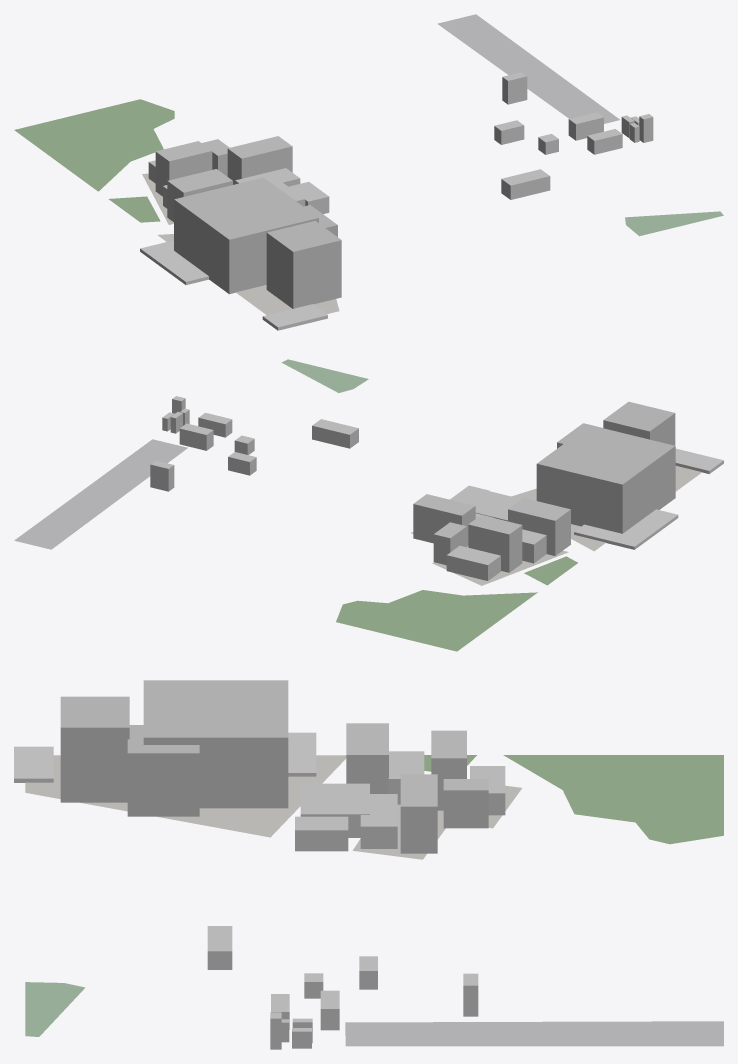
Rendered from 133_100_mid.glb.
3 renders of one model, top to bottom at view 1: azimuth 30°, elevation 25°; view 2: azimuth 150°, elevation 25°; view 3: azimuth 270°, elevation 25°, orthographic. The views are drawn at different scales.
Bounding box in the file's own units: 536 × 59.81 × 508.
